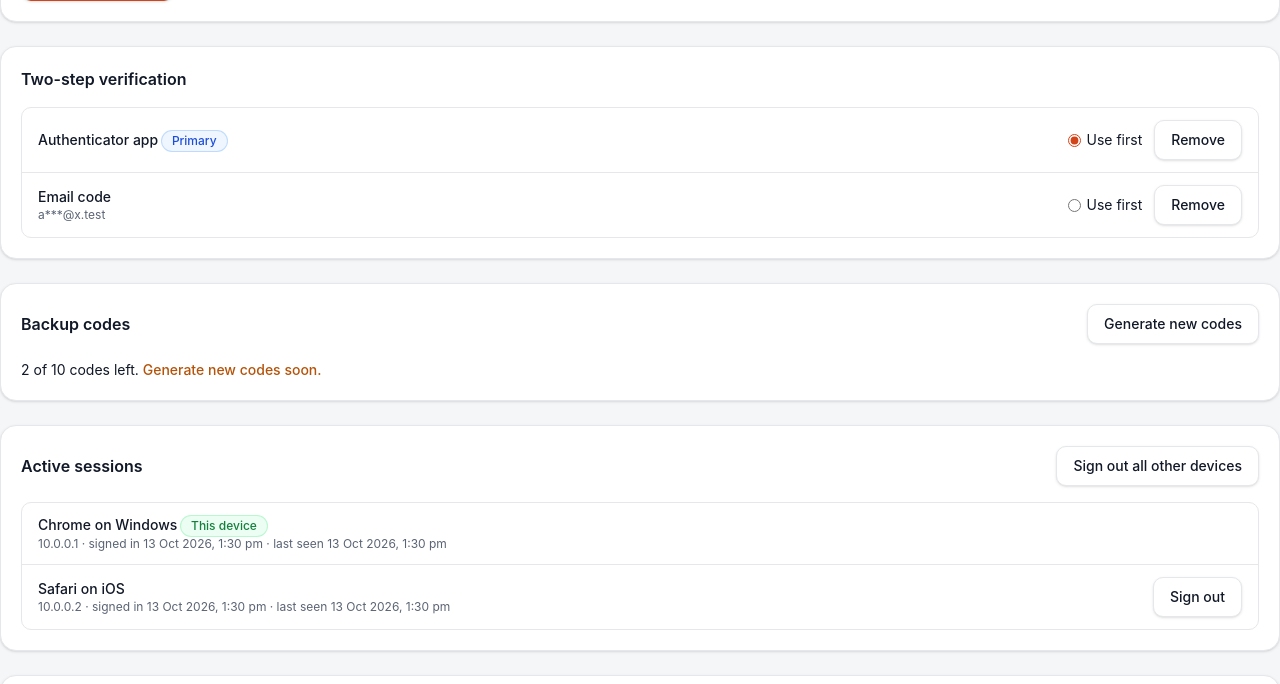
Scenario: /account/security › a wrong re-authentication keeps the dialog open with a generic message and does not run the action
The width and height of the screenshot is (1280, 684).
(page scrolled)
Click the button "Generate new codes". click: [1173, 324]
box: x1=1087 y1=304 x2=1259 y2=344
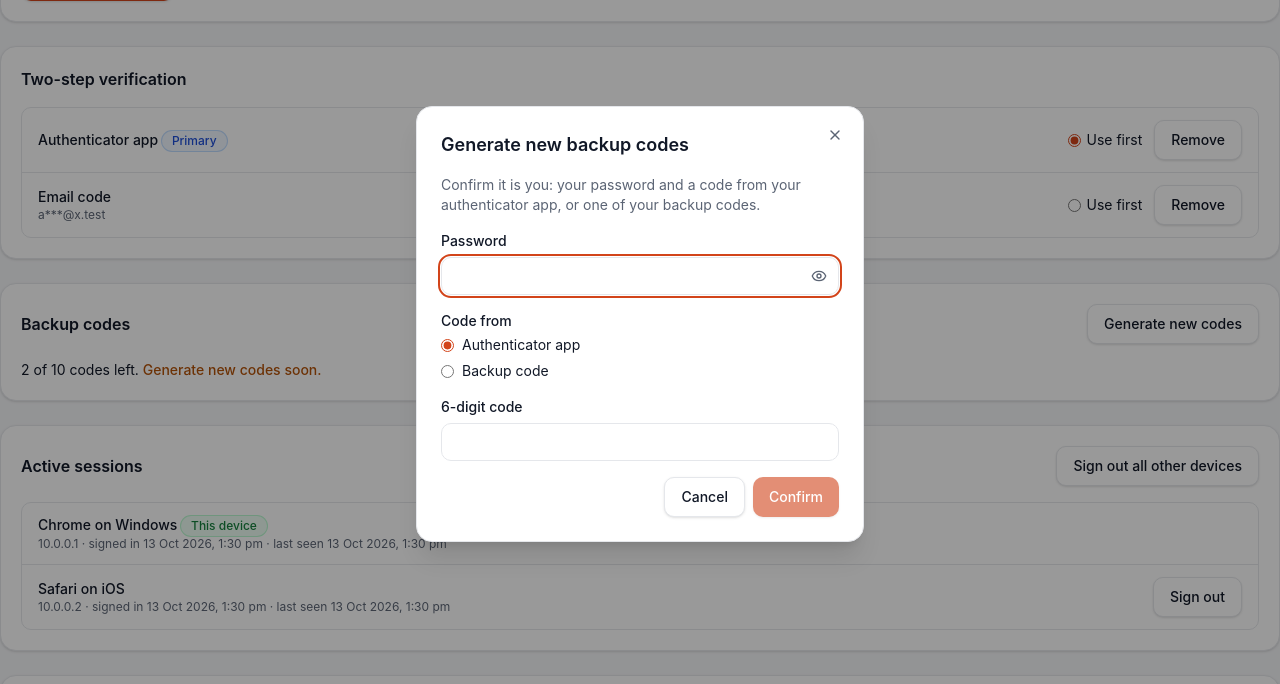
Type "wrong-password" into the password field labelled "Password". click: [640, 276]
box: x1=441 y1=257 x2=839 y2=295
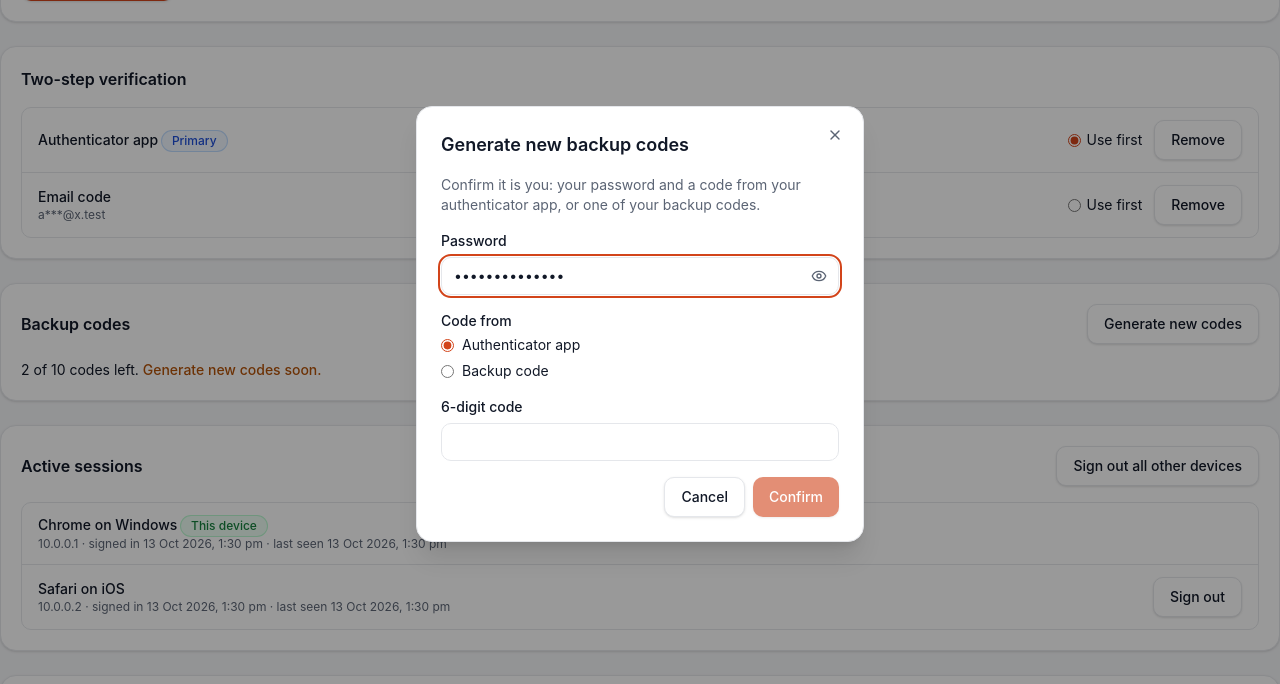
Type "000000" into the field labelled "6-digit code". click: [640, 442]
box: x1=441 y1=423 x2=839 y2=461
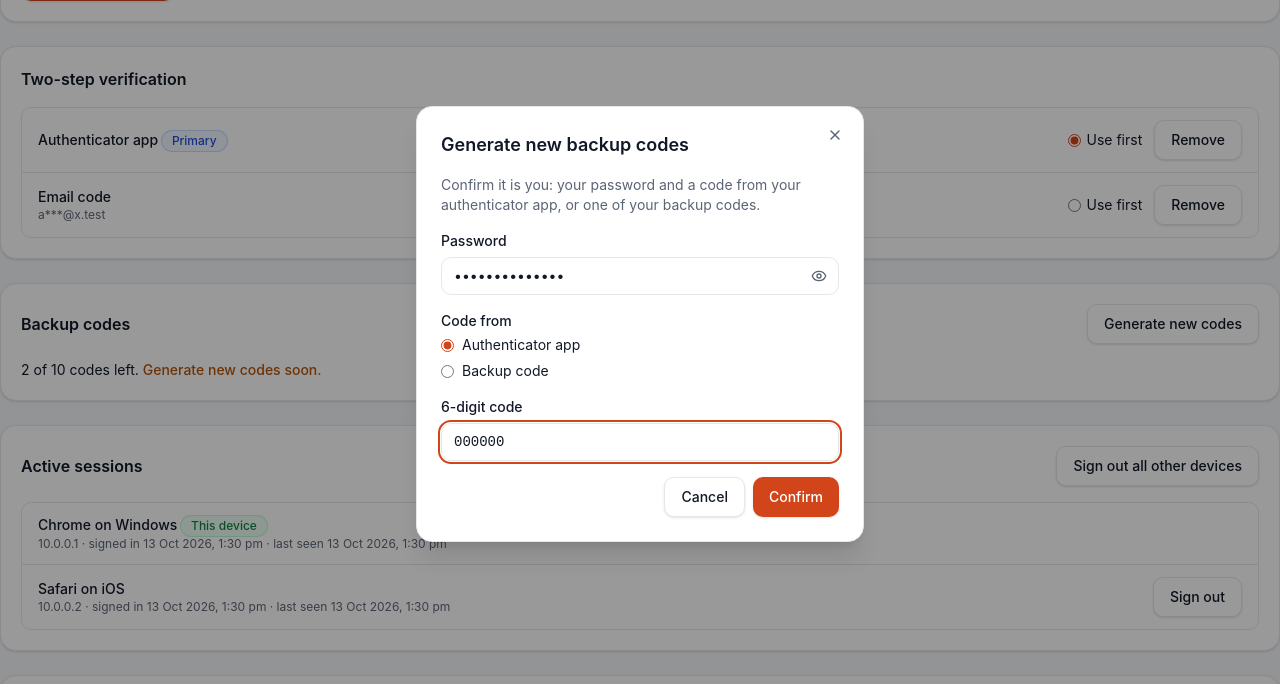
Click the button "Confirm". click: [796, 497]
box: x1=753 y1=477 x2=839 y2=517
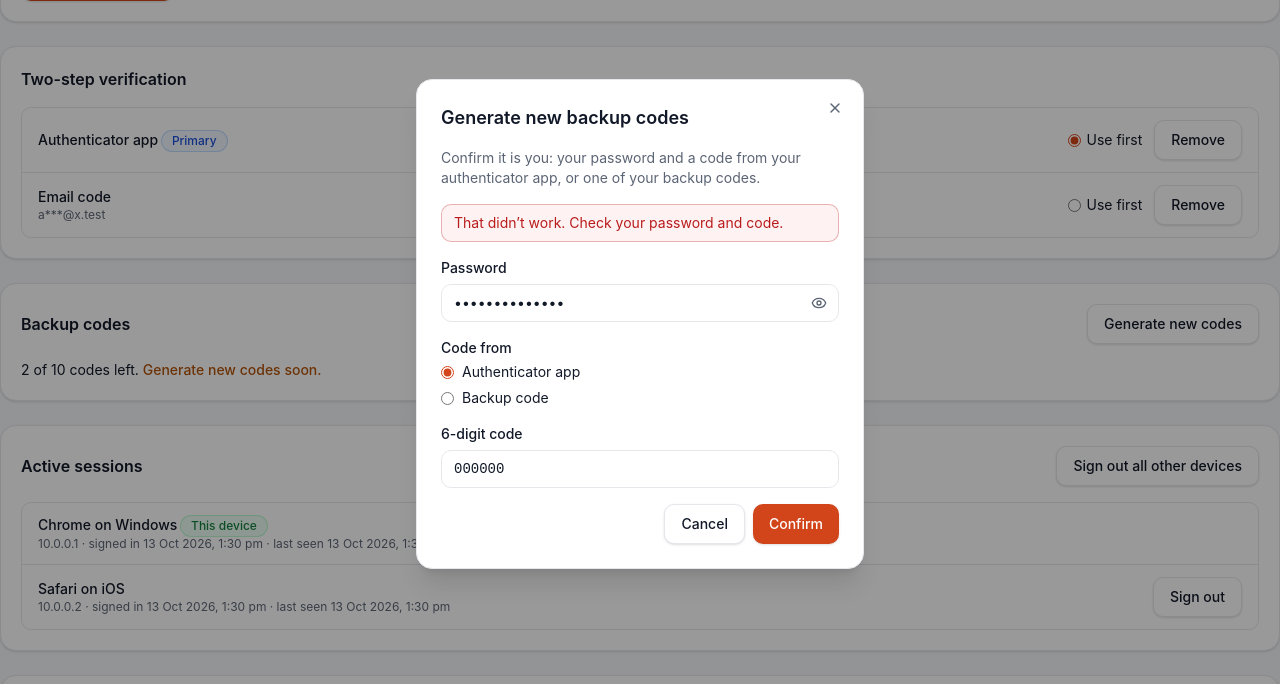
Now the text "That didn’t work. Check your password and code." is shown, box x1=441 y1=204 x2=839 y2=242
